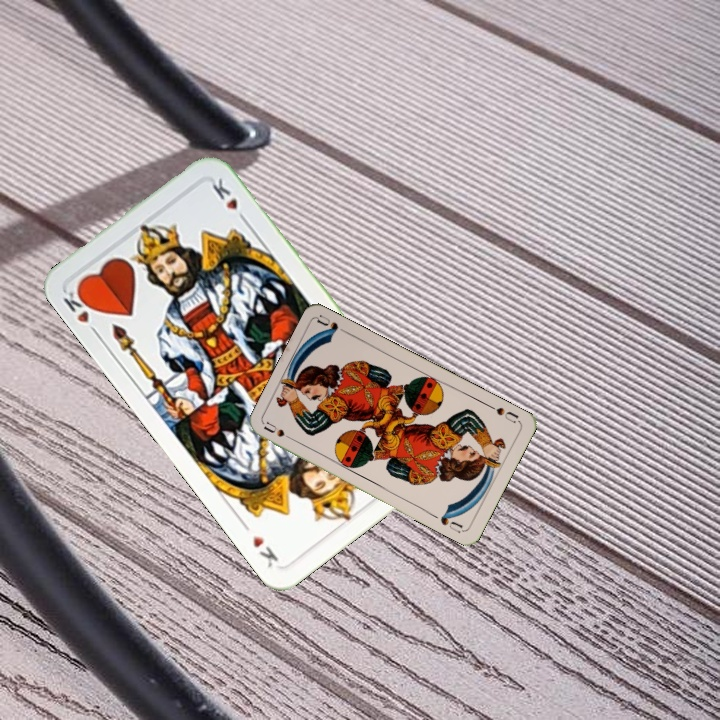HK: (58, 282, 102, 339)
SU: (260, 417, 299, 445), (484, 401, 522, 426)
